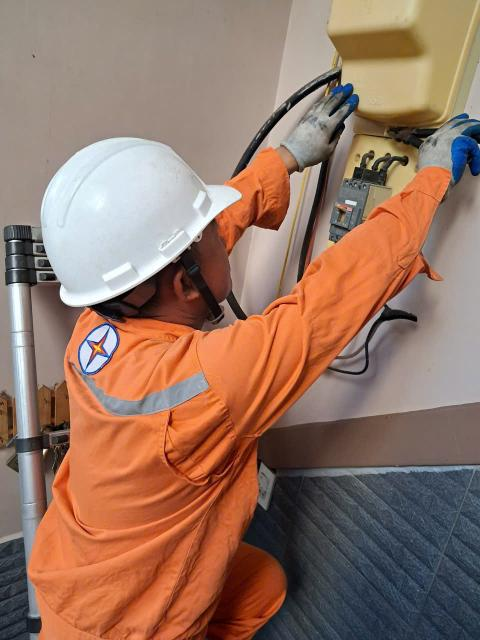gloves: (256, 72, 371, 182), (412, 102, 480, 244)
helmet: (35, 128, 257, 324)
